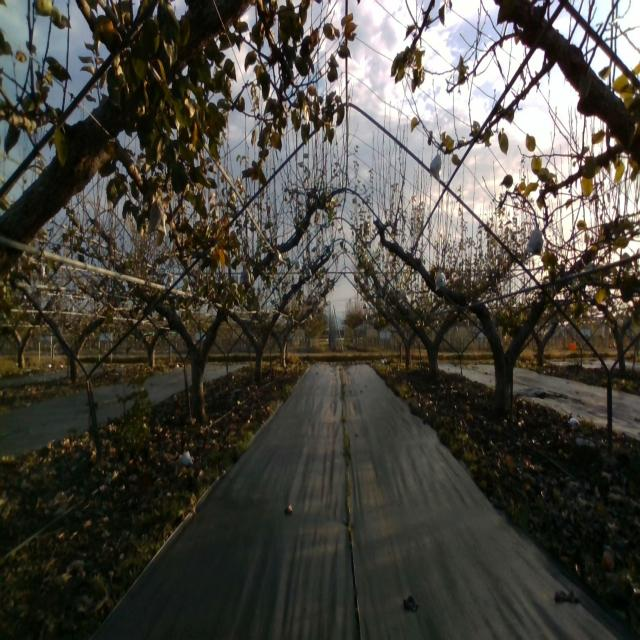pearbags: (147, 196, 167, 238), (525, 222, 543, 256), (429, 150, 442, 182), (435, 268, 451, 292), (239, 267, 252, 288)
